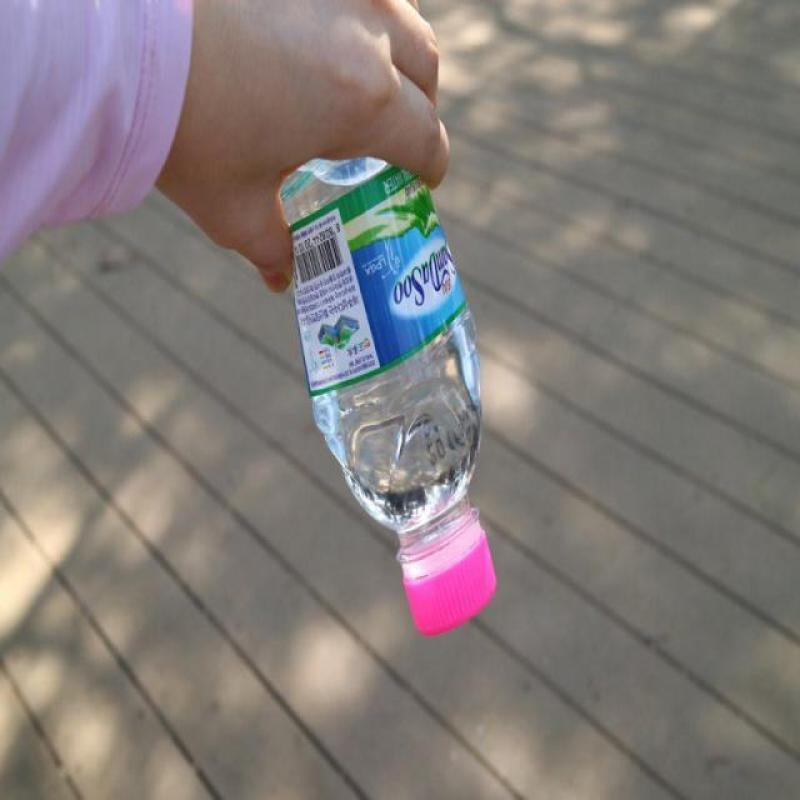botella: (280, 158, 498, 638)
